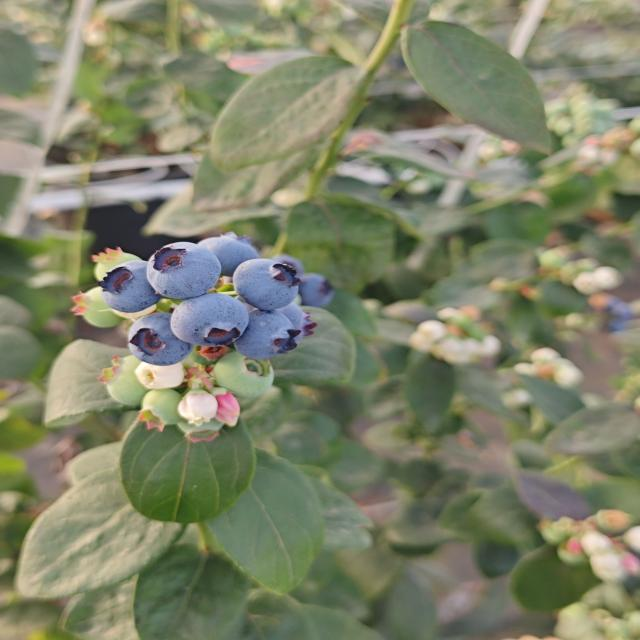ripe: (144, 240, 223, 301), (168, 292, 252, 348), (237, 292, 304, 356), (230, 256, 302, 312), (127, 314, 190, 370), (97, 259, 164, 310), (189, 227, 248, 282), (296, 261, 344, 308)
